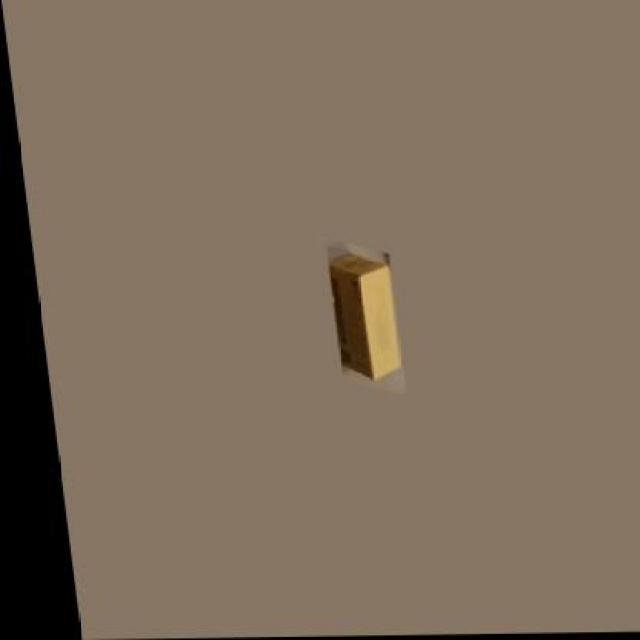box: (322, 252, 392, 378)
